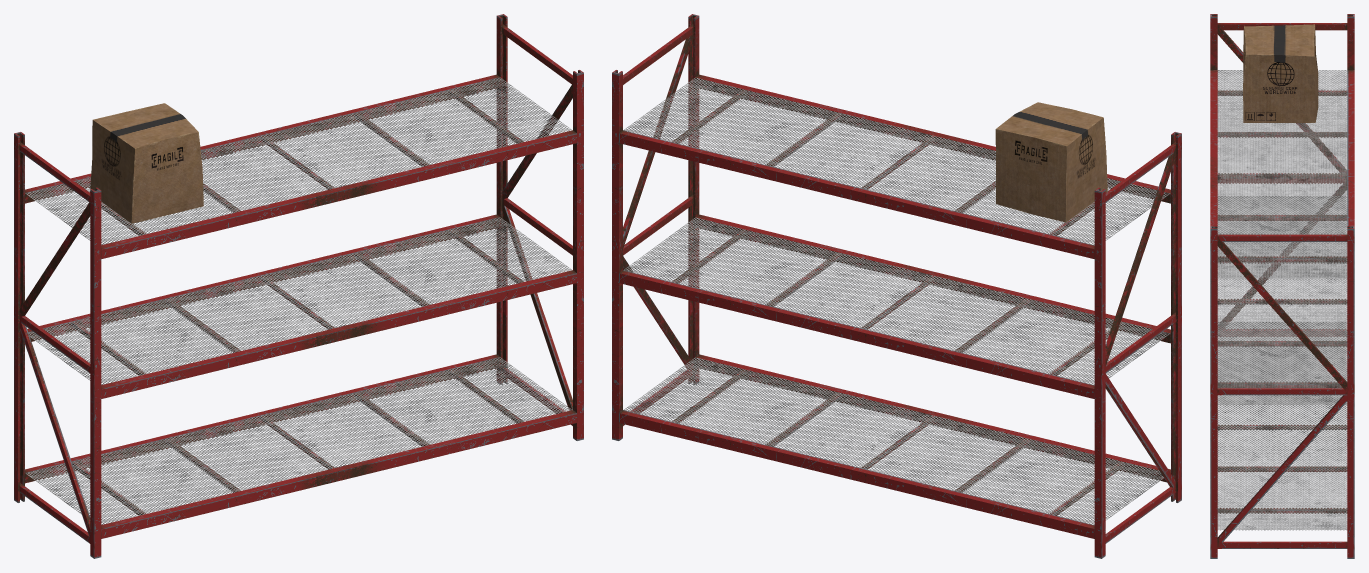
File: boxetagere.fbx
3 renders of one model, left to right at view 1: azimuth 30°, elevation 25°; view 2: azimuth 150°, elevation 25°; view 3: azimuth 270°, elevation 25°, orthographic. The views are drawn at different scales.
Visible parts, largest first — view 1: Shelf, Box1; view 2: Shelf, Box1; view 3: Shelf, Box1.
Part boxes in pixels (x1,y1,x2,y2): Shelf: (14,14,583,558); Box1: (90,103,203,223); Shelf: (612,14,1181,558); Box1: (995,102,1107,222); Shelf: (1210,14,1354,558); Box1: (1243,24,1318,122).
Size of the model in its own units: 3.82 by 1.08 by 2.86.
1 material, 1 textured.
